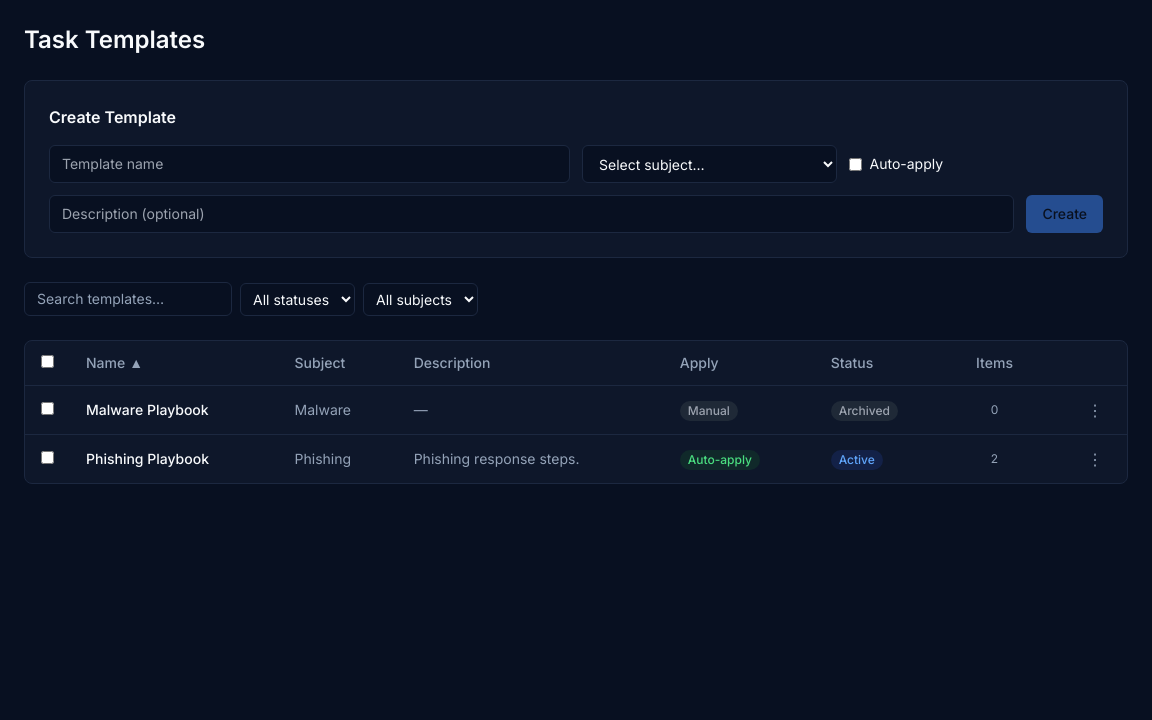
TaskTemplatesAdmin › creates a new template
Type "New Template" into the field with placeholder "Template name" at (310, 164), box [49,145,570,183]
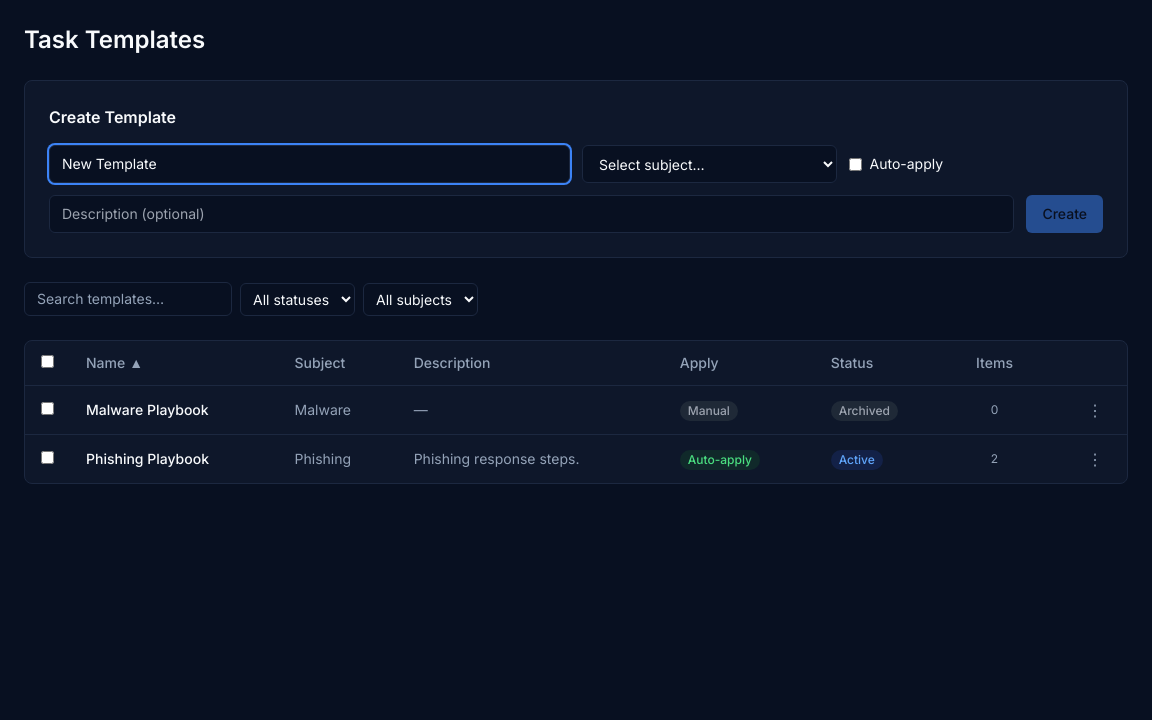
Select "Phishing" in the dropdown named "Subject" at (709, 164), box [582,145,836,183]
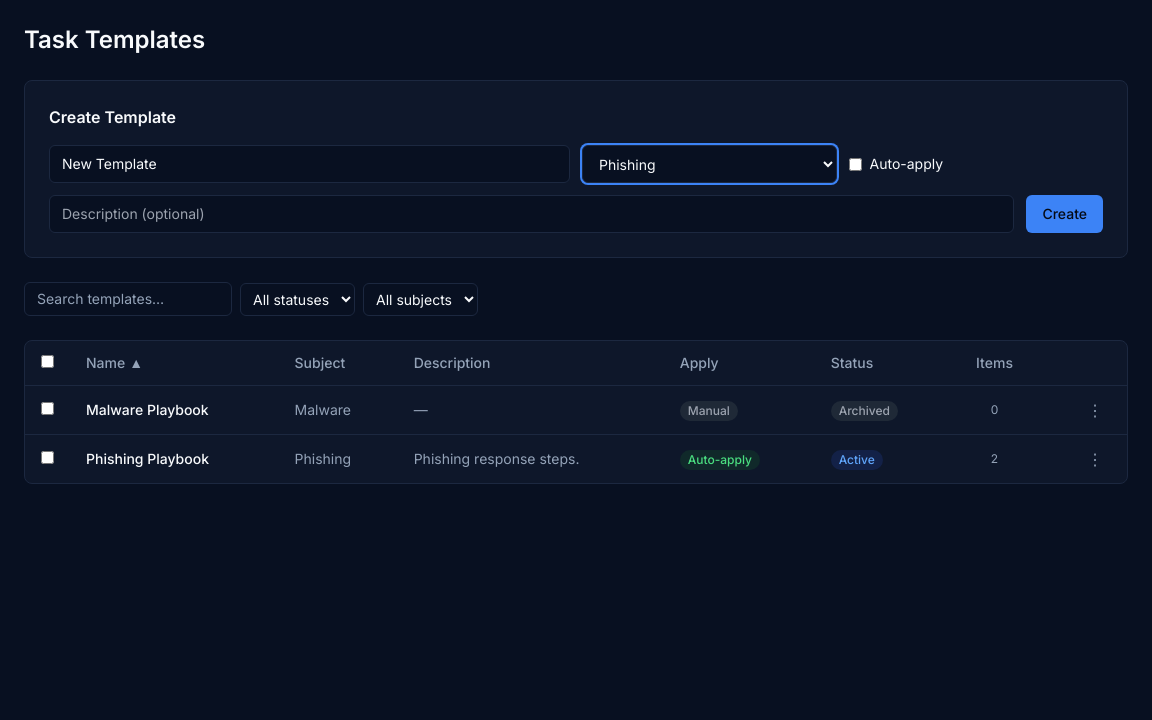
Click the button "Create" at (1065, 214), box [1026,195,1103,233]
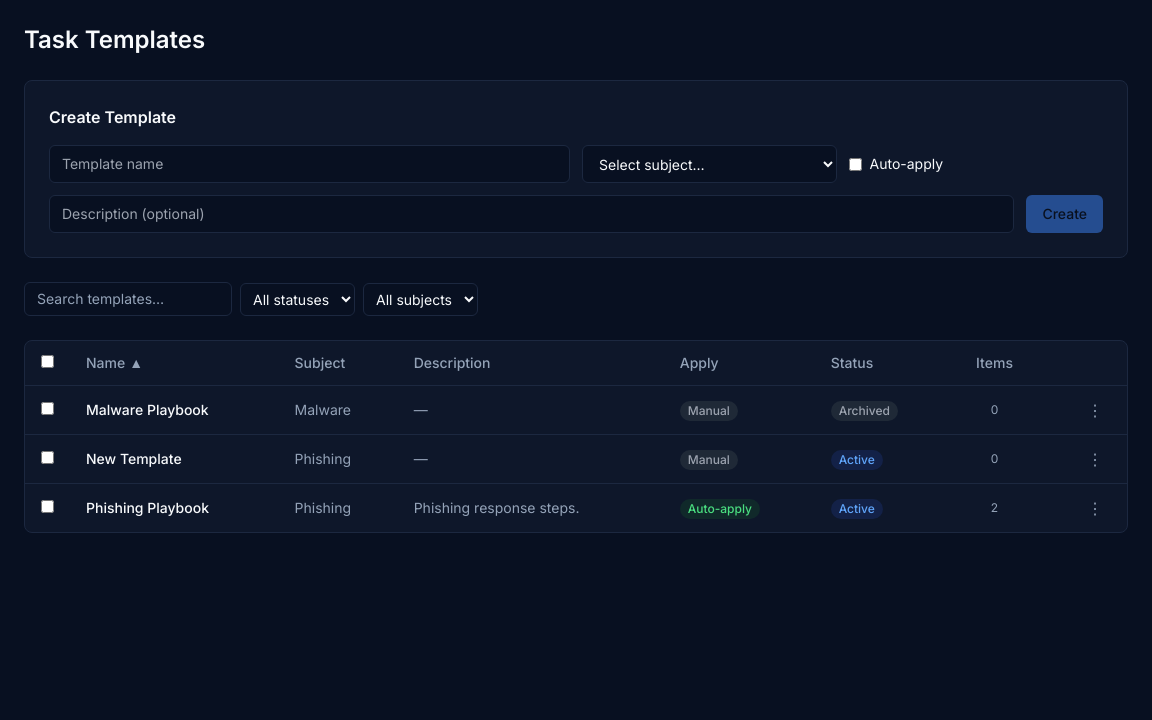
Expected: the text "New Template" is shown, [70,434,278,484]
